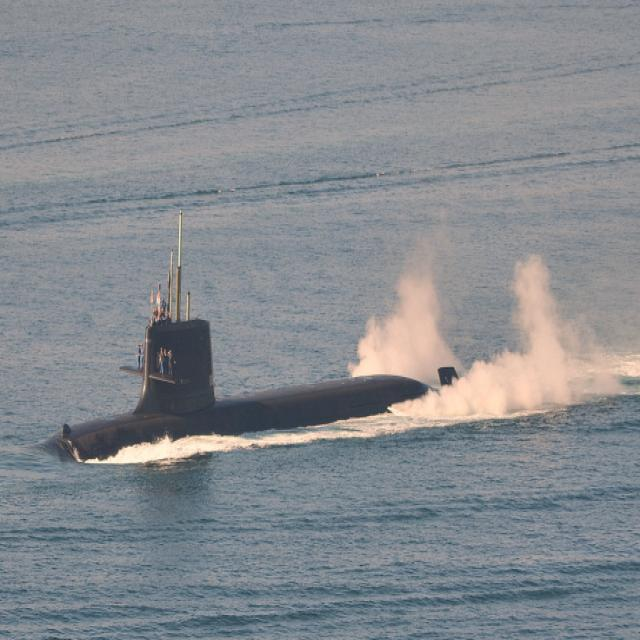submarine: (49, 190, 462, 460)
